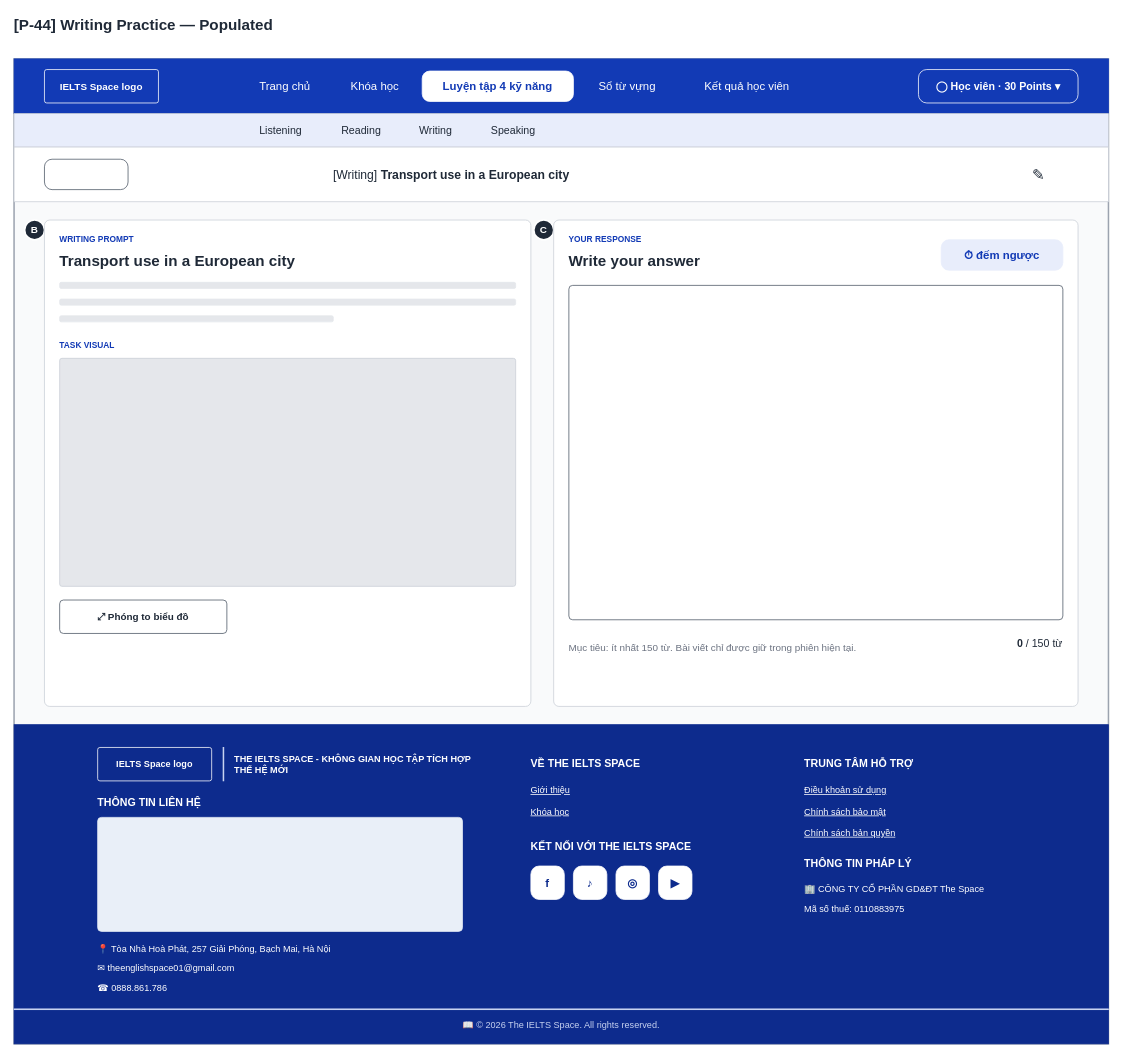
The diagram is 1122 pixels wide and 1057 high, and some of its shapes have lost their labels. Here are the shapes that lost their labels. From the top down, the box of each, then its label:
(44, 158, 128, 190): ← Thoát
(59, 358, 516, 586): ▨ Bar chart (SVG) · legend Car / Bus / Bicycle …
(568, 285, 1063, 620): Start writing your response here…
(97, 817, 462, 931): 📍 The IELTS Space Mở trong Maps ↗
